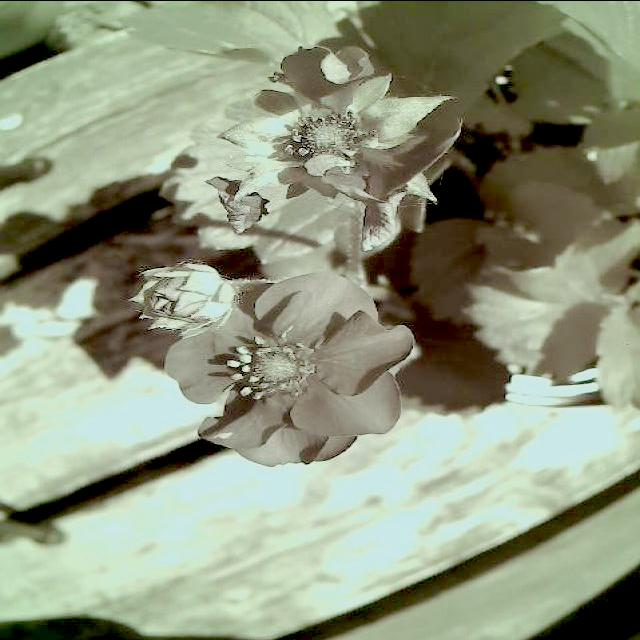flower: (163, 270, 422, 470)
